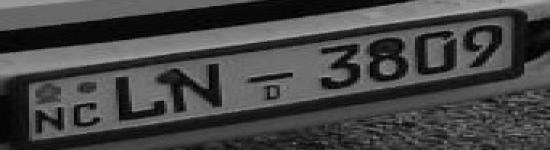0: (414, 28, 462, 78)
3: (312, 42, 367, 92)
8: (366, 36, 415, 83)
9: (460, 22, 510, 67)
C: (69, 100, 105, 130)
L: (113, 74, 167, 123)
N: (166, 61, 226, 113), (30, 106, 70, 134), (242, 67, 297, 86)
